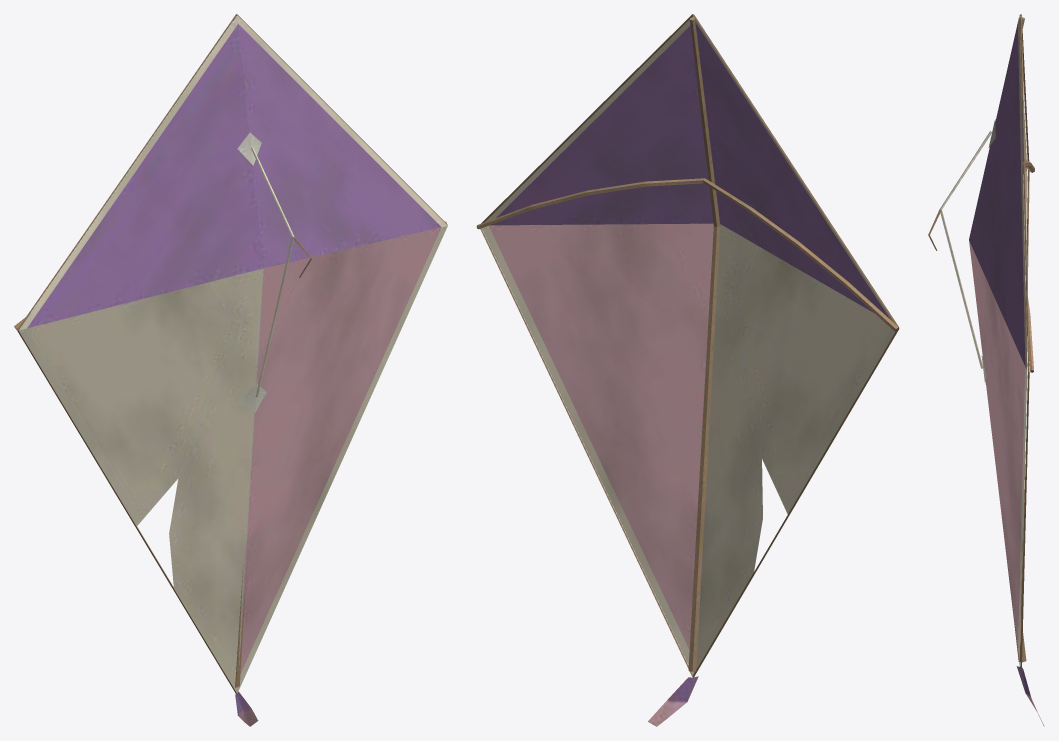
Rendered from SP10_kites_v3.glb.
3 renders of one model, left to right at view 1: azimuth 30°, elevation 25°; view 2: azimuth 150°, elevation 25°; view 3: azimuth 270°, elevation 25°, orthographic. The views are drawn at different scales.
Visible parts, largest first — view 1: Long Paper Kite; view 2: Long Paper Kite; view 3: Long Paper Kite.
Boxes of the visible parts, bbox=[...] form: Long Paper Kite: bbox=[14, 14, 447, 726]; Long Paper Kite: bbox=[476, 14, 899, 726]; Long Paper Kite: bbox=[928, 14, 1044, 726].
Bounding box in the file's own units: 0.4968 × 0.8 × 0.1209.
6 materials, 6 textured.
